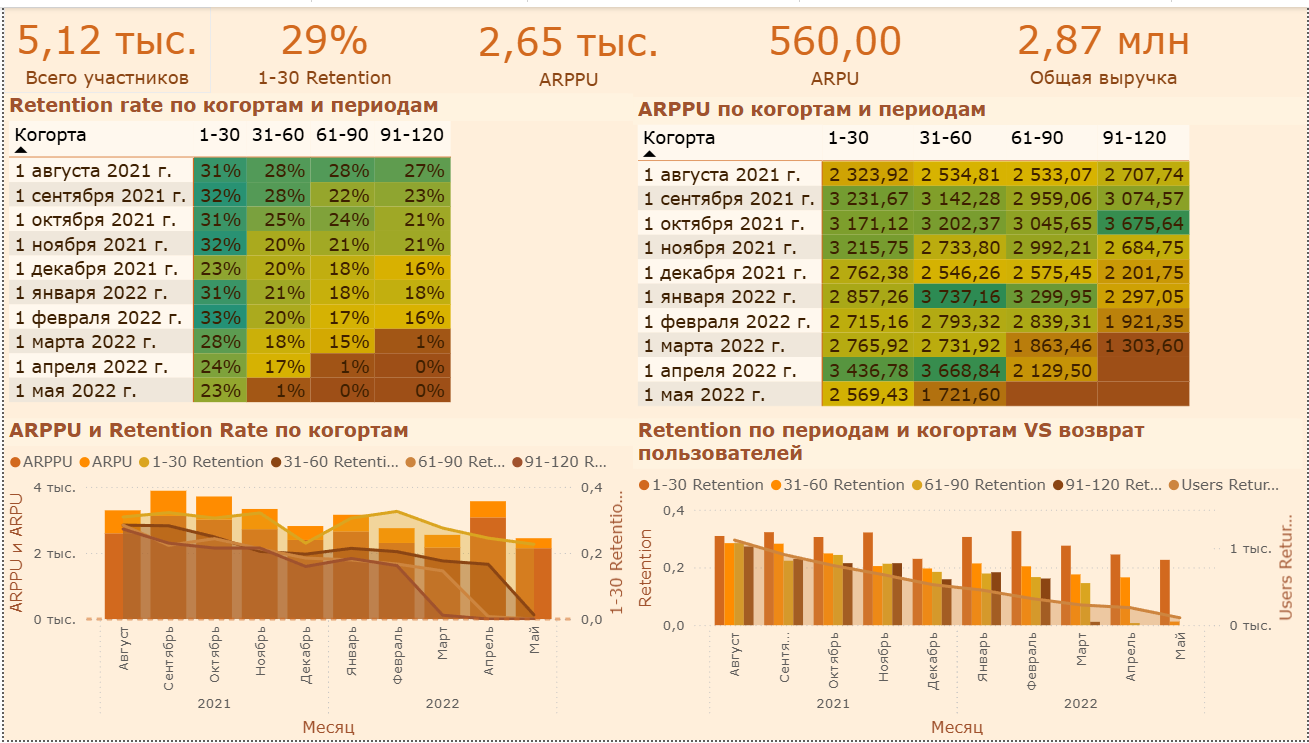

The dashboard page shown, as its layout file describes it:
{"tool":"powerbi","page":{"name":"ARPPU","canvas":[1280,720],"ordinal":0},"visuals":[{"type":"lineChart","title":"ARPPU vs ARPU по когортам в первые 30 дней","fields":{"Y":["ARPPU_Cohorts.ARPPU_scale","ARPPU_Cohorts.ARPU_scale"],"Y2":["Avg(ARPPU_Cohorts.retention)"],"Category":["ARPPU_Cohorts.cohort"]},"box":[0,403.4,617.5,317],"z":0},{"type":"card","title":"Retention","fields":{"Values":["Avg(Retention_Cohorts.retention_actual)"]},"box":[0,0,181.1,75.5],"z":1000},{"type":"card","fields":{"Values":["Avg(ARPPU_Cohorts.arppu)"]},"box":[596.3,1.2,120.2,76.1],"z":2000},{"type":"card","fields":{"Values":["Avg(ARPPU_Cohorts.arpu)"]},"box":[766.9,1.2,109.2,76.1],"z":3000},{"type":"columnChart","title":"Доля клиентов, купивших в днях 31-60","fields":{"Category":["ARPPU_Cohorts.cohort"],"Y":["ARPPU_Cohorts.Unactive_users_share","ARPPU_Cohorts.Active_Users_share"]},"box":[618.2,402.5,656.6,315.9],"z":4000},{"type":"pivotTable","title":"ARPPU по когортам и периодам","fields":{"Rows":["ARPPU_Cohorts.cohort"],"Values":["Avg(ARPPU_Cohorts.arppu)"],"Columns":["ARPPU_Cohorts.day_k"]},"box":[617.2,100.6,553.4,312.9],"z":5000},{"type":"pivotTable","title":"Retention rate по когортам и периодам в %","fields":{"Columns":["ARPPU_Cohorts.day_k"],"Rows":["ARPPU_Cohorts.cohort"],"Values":["Sum(ARPPU_Cohorts.retention)"]},"box":[0,100.2,489.9,301.9],"z":6000},{"type":"slicer","fields":{"Values":["ARPPU_Cohorts.period"]},"box":[909.2,8.6,320.2,68.7],"z":7000},{"type":"card","title":"Retention","fields":{"Values":["Avg(Retention_Cohorts.retention_actual)"]},"box":[181.1,1.4,185.2,75.5],"z":8000},{"type":"card","title":"Retention","fields":{"Values":["Avg(Retention_Cohorts.retention_actual)"]},"box":[356.8,0,211.3,75.5],"z":9000},{"type":"textbox","box":[155.8,68.7,401.2,30.7],"z":10000},{"type":"textbox","box":[617.5,68.6,408.9,31.6],"z":11000}]}

Visuals, with their boxes in screenshot pixels (x1, y1, x2, y2), scaled from the page's 1280x720 canvas onto the 1309x743 screenshot:
"ARPPU vs ARPU по когортам в первые 30 дней" lineChart: locate(0, 416, 631, 742)
"Retention" card: locate(0, 0, 185, 78)
card - Avg(ARPPU_Cohorts.arppu): locate(610, 1, 733, 80)
card - Avg(ARPPU_Cohorts.arpu): locate(784, 1, 896, 80)
"Доля клиентов, купивших в днях 31-60" columnChart: locate(632, 415, 1304, 741)
"ARPPU по когортам и периодам" pivotTable: locate(631, 104, 1197, 427)
"Retention rate по когортам и периодам в %" pivotTable: locate(0, 103, 501, 415)
slicer - ARPPU_Cohorts.period: locate(930, 9, 1257, 80)
"Retention" card: locate(185, 1, 375, 79)
"Retention" card: locate(365, 0, 581, 78)
textbox: locate(159, 71, 570, 103)
textbox: locate(631, 71, 1050, 103)
